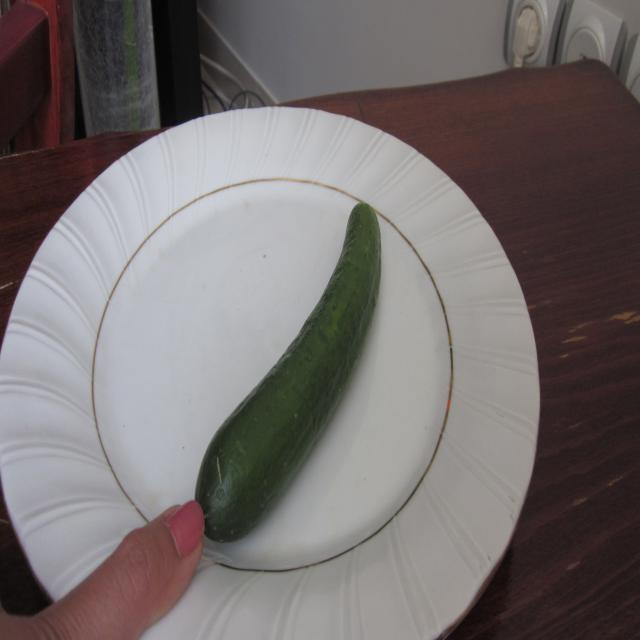Cucumber: (198, 192, 386, 538)
Finger: (114, 496, 208, 628)
